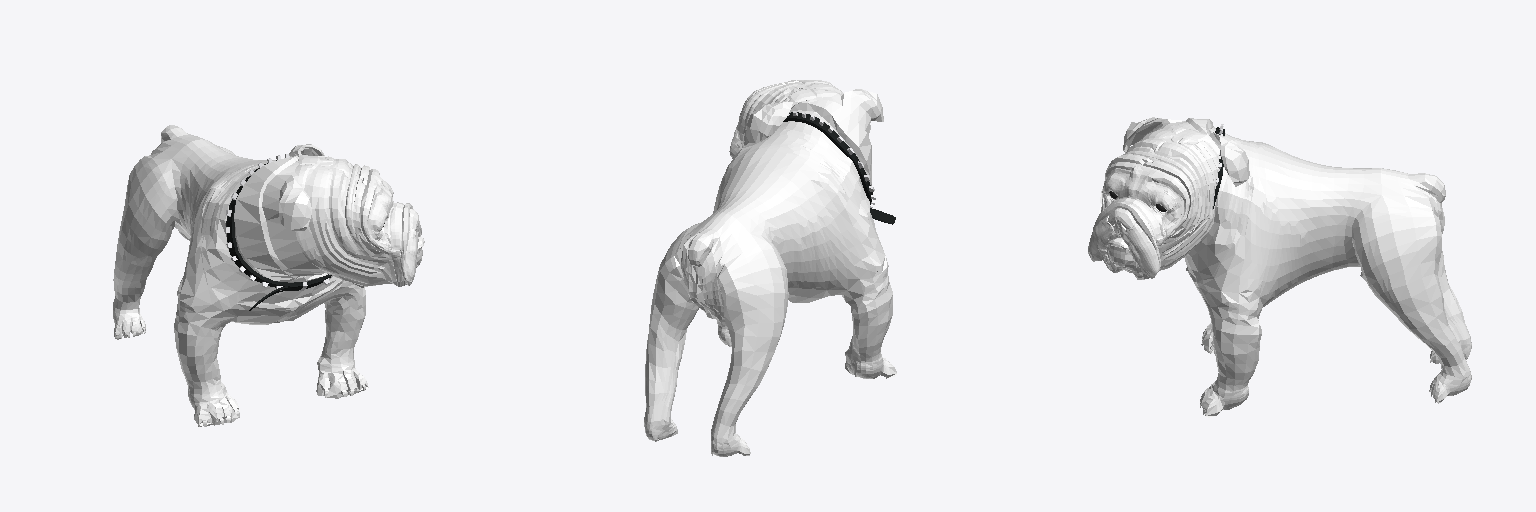
The model's file is bulldog.obj.
3 renders of one model, left to right at view 1: azimuth 30°, elevation 25°; view 2: azimuth 150°, elevation 25°; view 3: azimuth 270°, elevation 25°, orthographic.
Parts seen in each view (by area): view 1: 1, 2; view 2: 1, 2; view 3: 1.
Boxes of the visible parts, box(x1,y1,x2,y2) form: 1: box(113, 125, 424, 426); 2: box(226, 160, 331, 310); 1: box(644, 80, 896, 456); 2: box(783, 112, 895, 224); 1: box(1088, 117, 1471, 417).
Bounding box in the file's own units: 38.8 × 47.4 × 64.5.